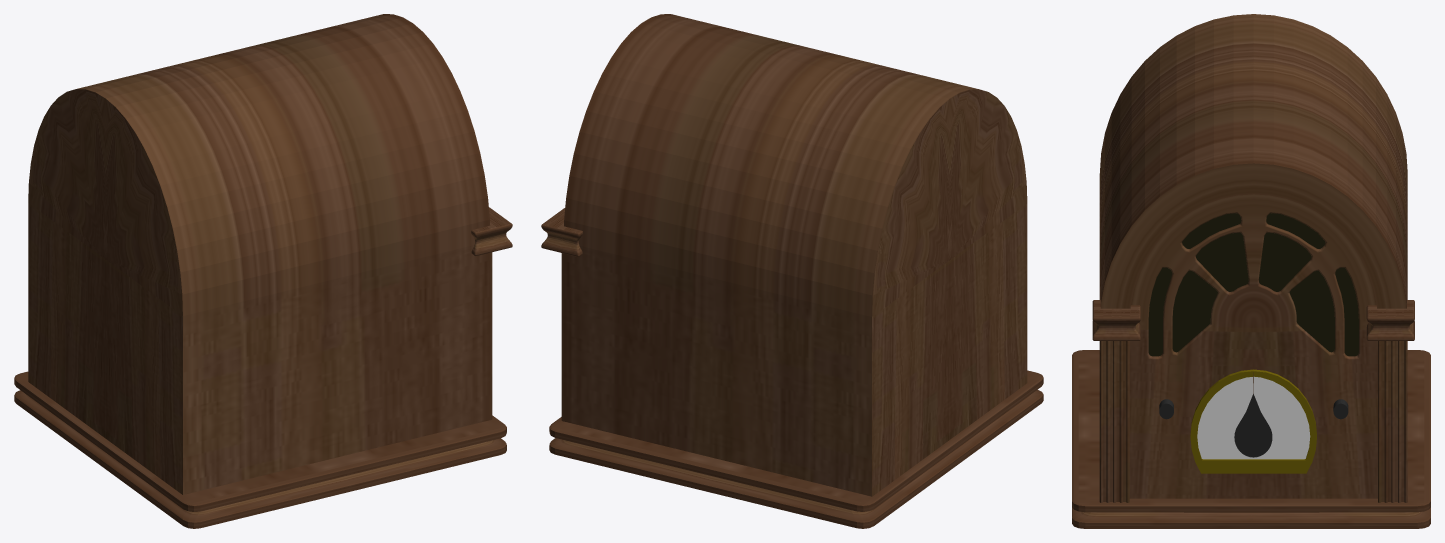
Rendered from radio.fbx.
3 views of the same model, side by side, from view 1: azimuth 30°, elevation 25°; view 2: azimuth 150°, elevation 25°; view 3: azimuth 270°, elevation 25° (orthographic).
Parts seen in each view (by area): view 1: Cube, Cube.003; view 2: Cube, Cube.003; view 3: Cube, Cube.001, Cube.003, Circle.
Part boxes in pixels (left/top/right/bottom): Cube: left=28, top=14, right=512, bottom=494; Cube.003: left=14, top=371, right=506, bottom=528; Cube: left=541, top=14, right=1027, bottom=496; Cube.003: left=549, top=370, right=1043, bottom=528; Cube: left=1092, top=14, right=1414, bottom=502; Cube.001: left=1129, top=194, right=1377, bottom=498; Cube.003: left=1072, top=350, right=1430, bottom=528; Circle: left=1234, top=394, right=1272, bottom=457.
Bounding box in the file's own units: 217 × 227 × 203.
